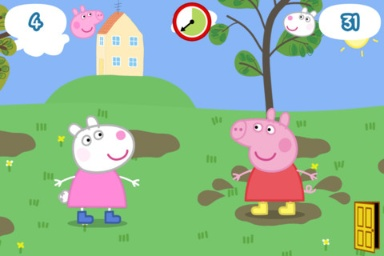Peppa: (230, 106, 317, 221)
